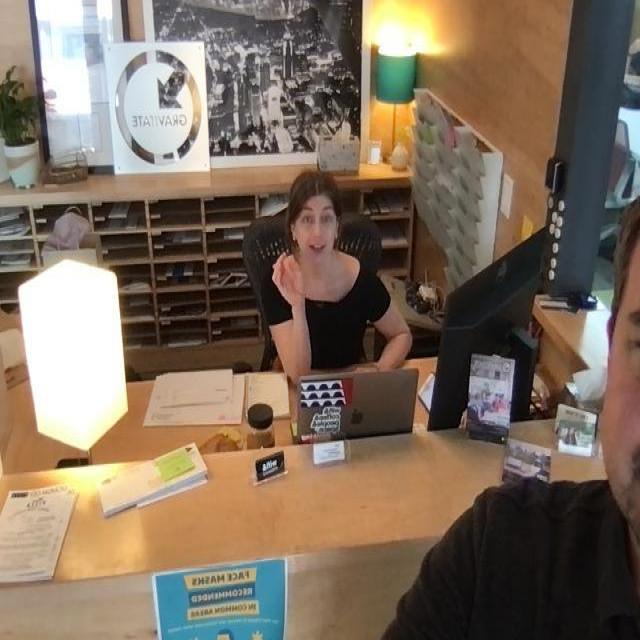face: (593, 193, 640, 543), (290, 168, 344, 268)
